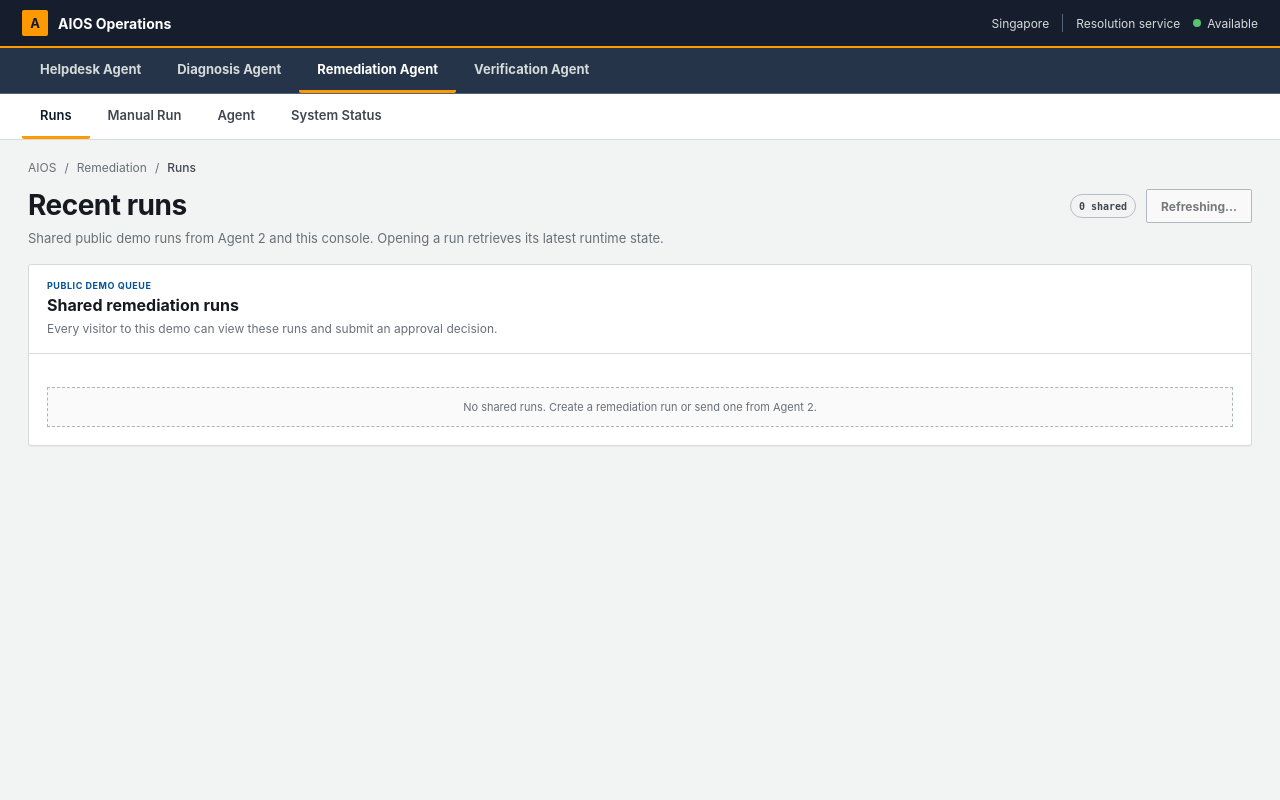
Test: shared agent shell › shows Diagnosis Agent's logs in its own tab, with no token gate, and keeps Remediation Agent untouched
Click the tab "Diagnosis Agent". click: point(229, 70)
box: x1=159 y1=48 x2=299 y2=93
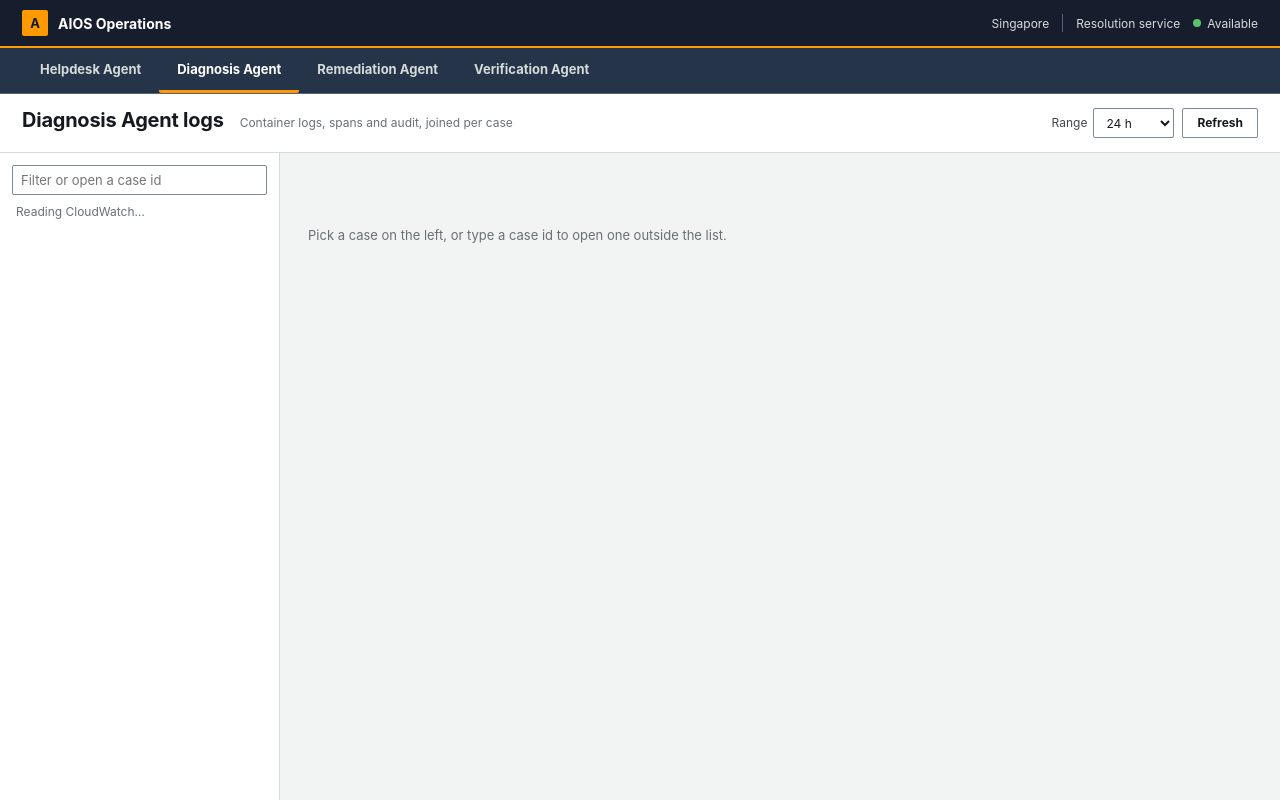
Check: the heading "Diagnosis Agent logs" is shown, box x1=22 y1=108 x2=224 y2=133
Check: the tab "Runs" is gone
Click the tab "Remediation Agent". click: point(378, 70)
box: x1=299 y1=48 x2=456 y2=93
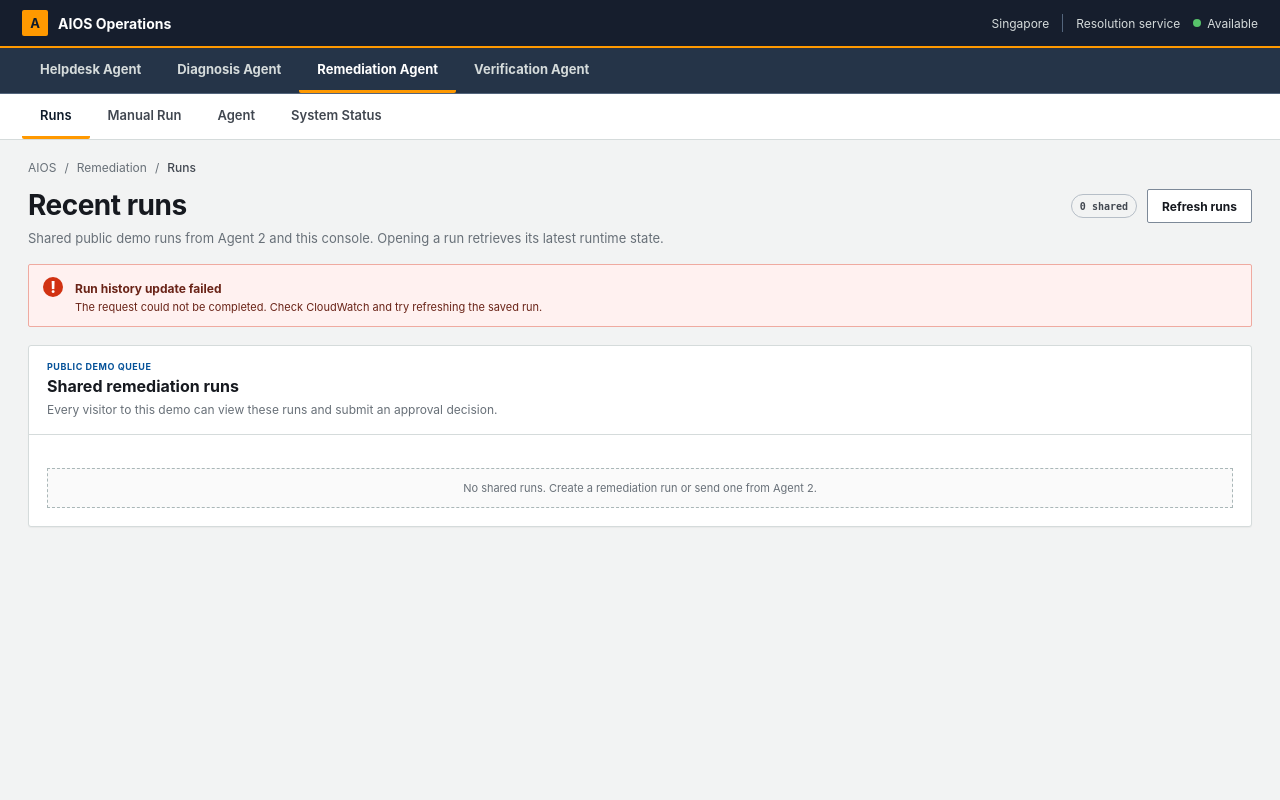
Check: the heading "Recent runs" is shown, box x1=28 y1=188 x2=187 y2=222
Check: the heading "Diagnosis Agent logs" is gone
